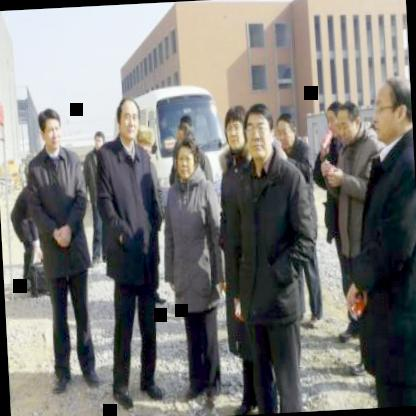head: (369, 70, 413, 143), (241, 100, 274, 166), (221, 100, 250, 160), (35, 104, 66, 153), (114, 93, 142, 146), (171, 134, 200, 182), (335, 99, 364, 144), (271, 110, 296, 153), (322, 96, 343, 142), (90, 128, 106, 152)
